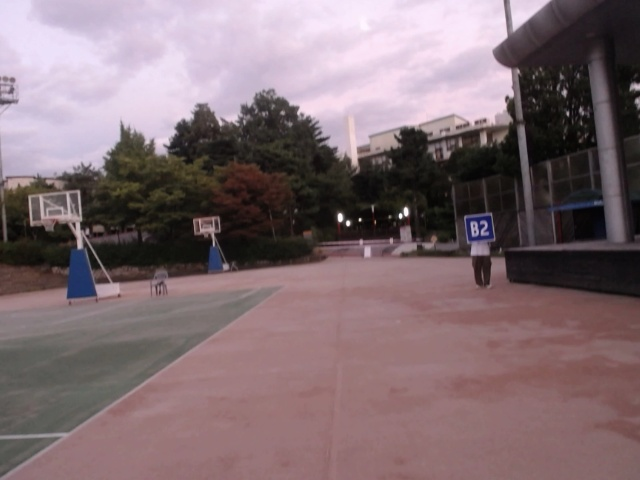delivery_b2: (463, 213, 497, 244)
